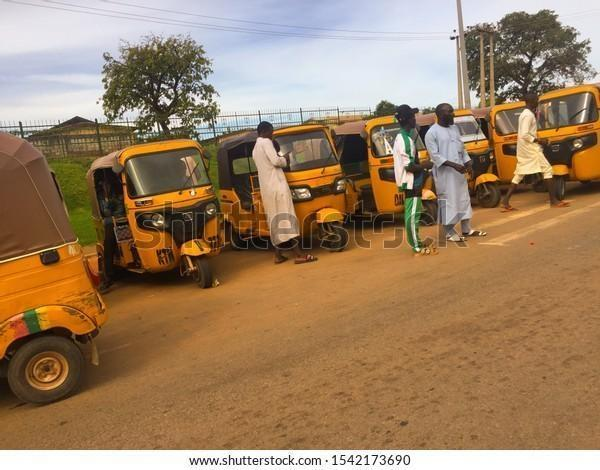keke: (0, 130, 100, 415), (81, 136, 219, 293), (468, 98, 550, 212), (532, 81, 596, 202)
